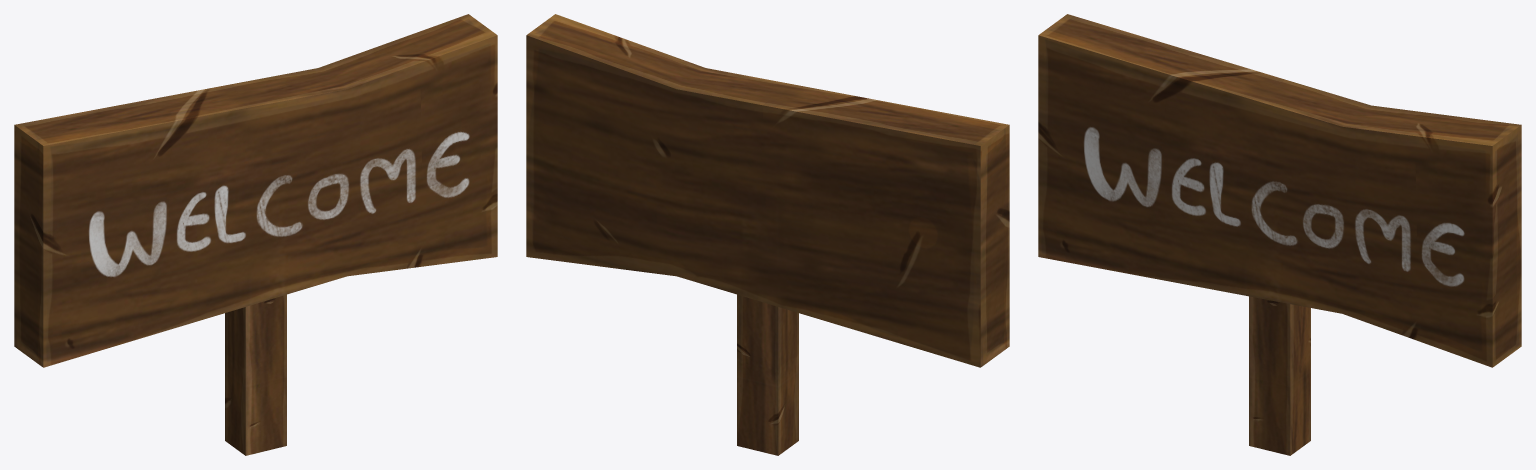
Rendered from modelWelcome.fbx.
3 renders of one model, left to right at view 1: azimuth 30°, elevation 25°; view 2: azimuth 150°, elevation 25°; view 3: azimuth 330°, elevation 25°, orthographic.
Visible parts, largest first — view 1: modelWelcome; view 2: modelWelcome; view 3: modelWelcome.
Boxes of the visible parts, box(x1,y1,x2,y2) form: modelWelcome: box(14, 14, 497, 455); modelWelcome: box(526, 14, 1009, 455); modelWelcome: box(1038, 14, 1521, 455).
Size of the model in its own units: 12.52 by 9.57 by 1.39.
